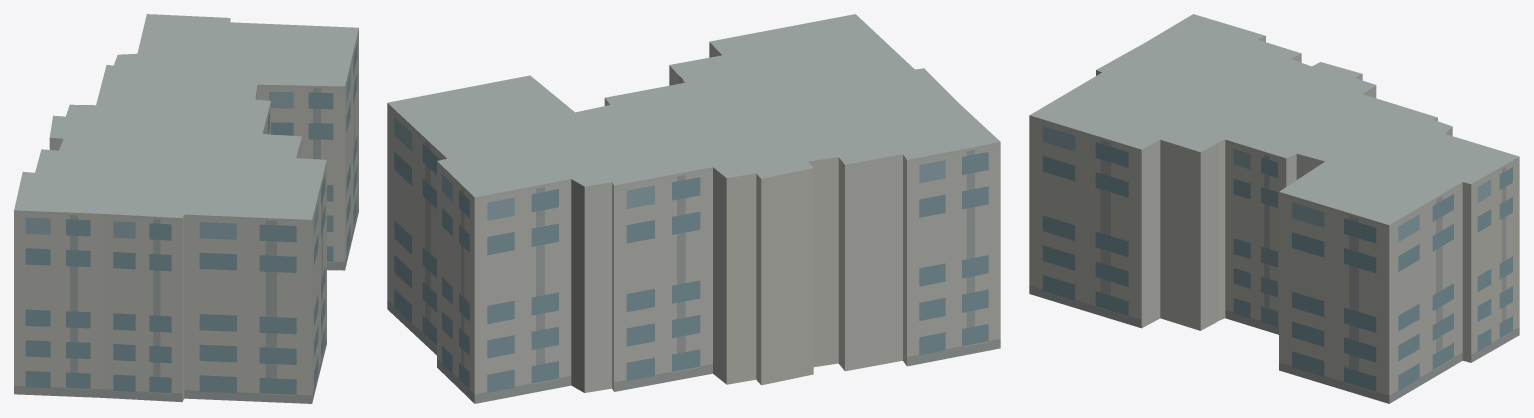
The model's file is survey-upis-32488275.glb.
The picture shows the model from 3 angles, left to right: view 1: azimuth 30°, elevation 25°; view 2: azimuth 150°, elevation 25°; view 3: azimuth 270°, elevation 25°; orthographic projection. The views are drawn at different scales.
Parts seen in each view (by area): view 1: survey-upis-32488275.tmp; view 2: survey-upis-32488275.tmp; view 3: survey-upis-32488275.tmp.
Boxes of the visible parts, x1,y1,x2,y2 form: survey-upis-32488275.tmp: (14, 14, 358, 403); survey-upis-32488275.tmp: (387, 14, 1000, 403); survey-upis-32488275.tmp: (1029, 14, 1519, 403).
Bounding box in the file's own units: 45.13 × 17.8 × 44.25.
